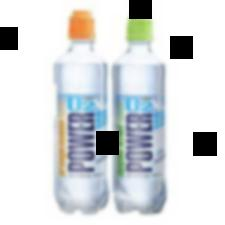powerO2_orange: (50, 4, 112, 218)
